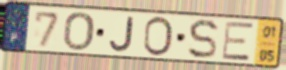7: (33, 10, 61, 48)
E: (221, 21, 255, 63)
J: (108, 15, 136, 54)
O: (62, 11, 96, 53), (141, 15, 174, 58)
S: (187, 18, 220, 61)
